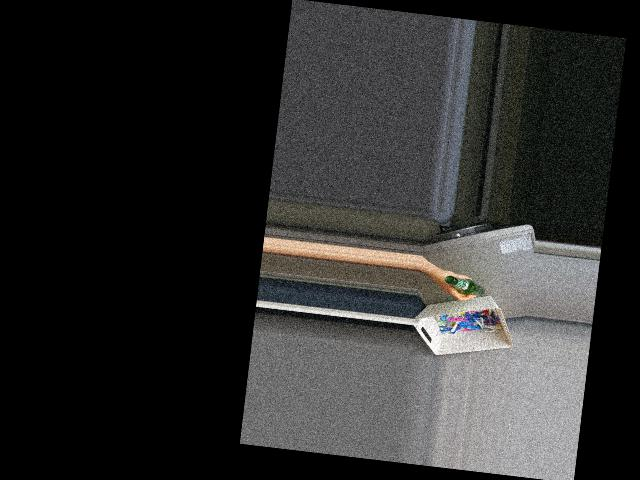beer: (443, 274, 485, 298)
